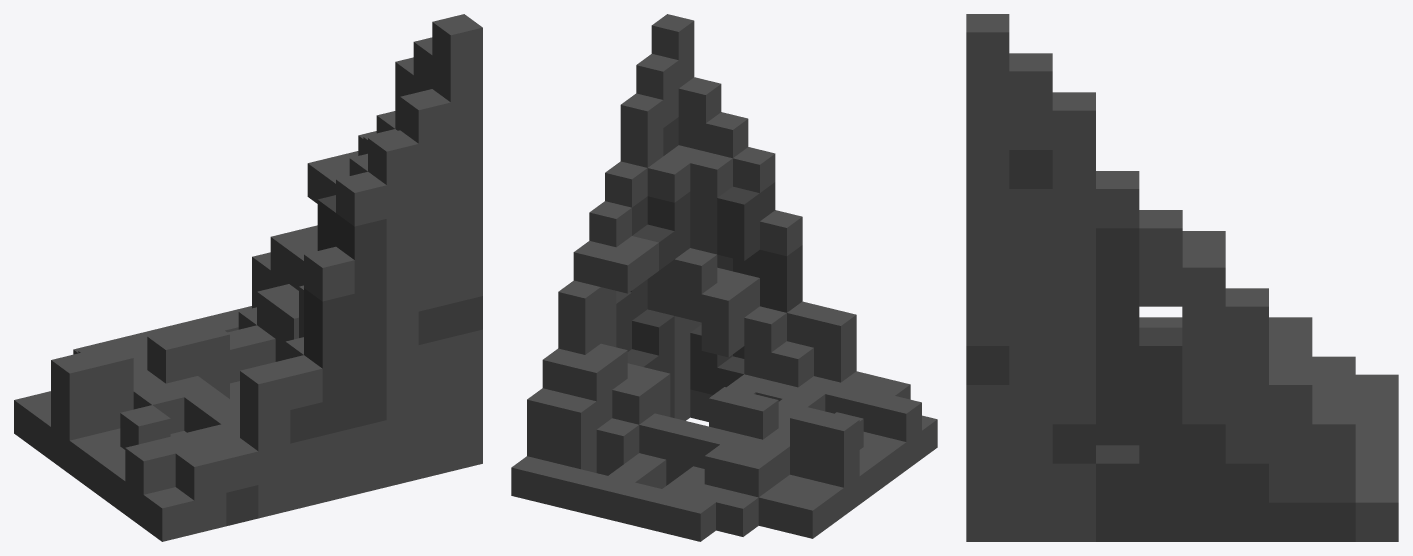
The model's file is Stein_ecke_ebene-01.obj.
3 renders of one model, left to right at view 1: azimuth 30°, elevation 25°; view 2: azimuth 150°, elevation 25°; view 3: azimuth 270°, elevation 25°, orthographic. The views are drawn at different scales.
Bounding box in the file's own units: 1 × 1.3 × 1.
1 material, 1 textured.
